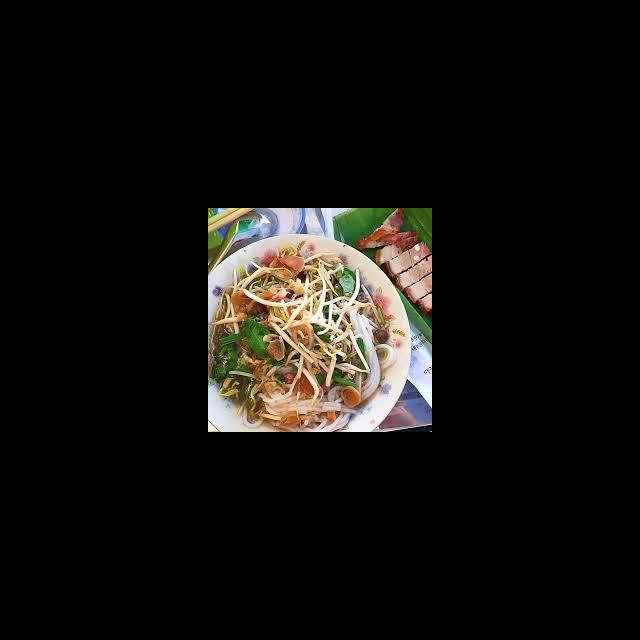bun: (345, 306, 401, 412), (255, 384, 358, 432)
thit heo quay: (353, 209, 406, 252), (382, 238, 432, 280), (373, 231, 421, 268), (392, 253, 432, 293), (400, 269, 432, 305), (413, 288, 432, 314)
